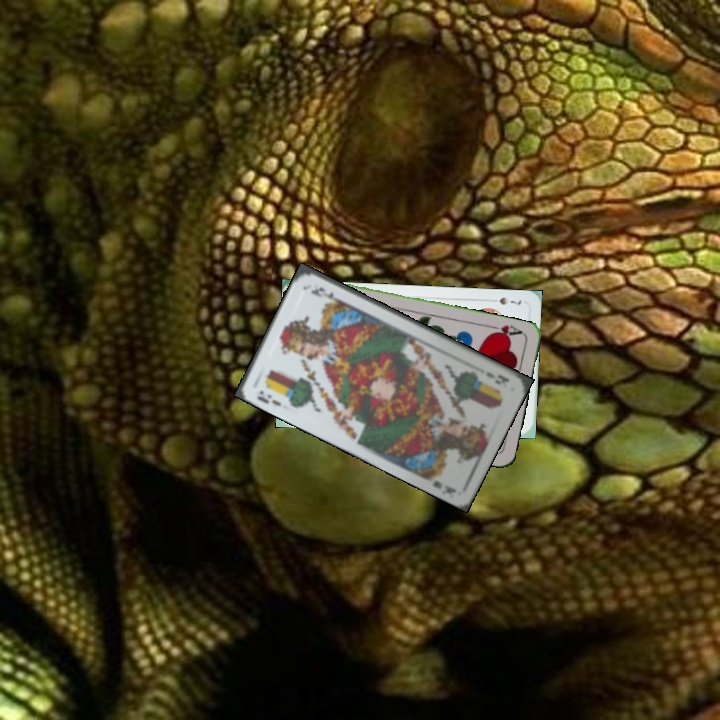EK: (252, 386, 283, 409), (481, 368, 512, 387)
HA: (485, 321, 525, 341)
S7: (485, 293, 524, 307)
